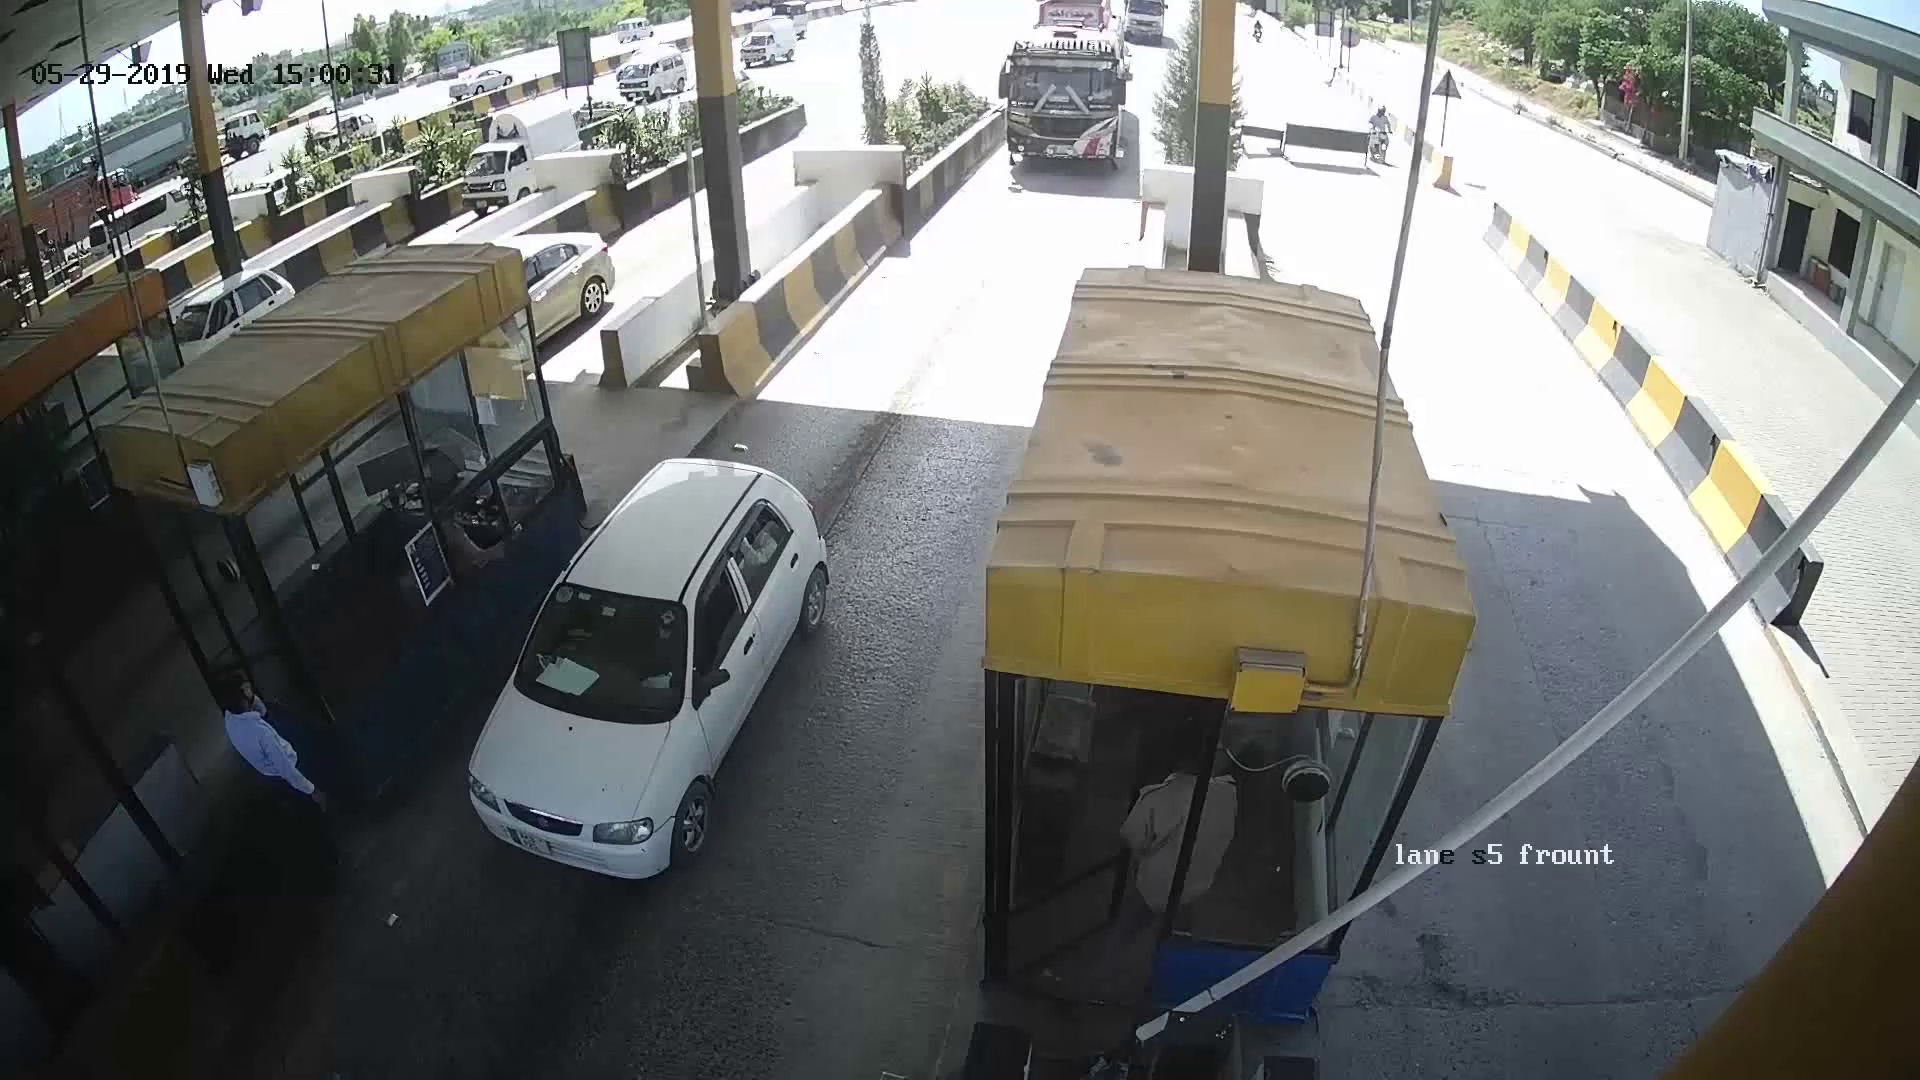bus: (986, 25, 1151, 206)
car: (502, 477, 800, 877)
